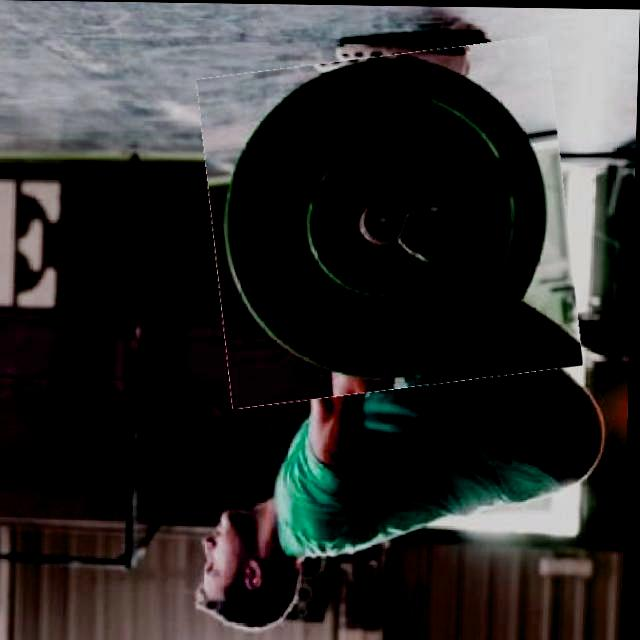barbell: (201, 41, 582, 400)
